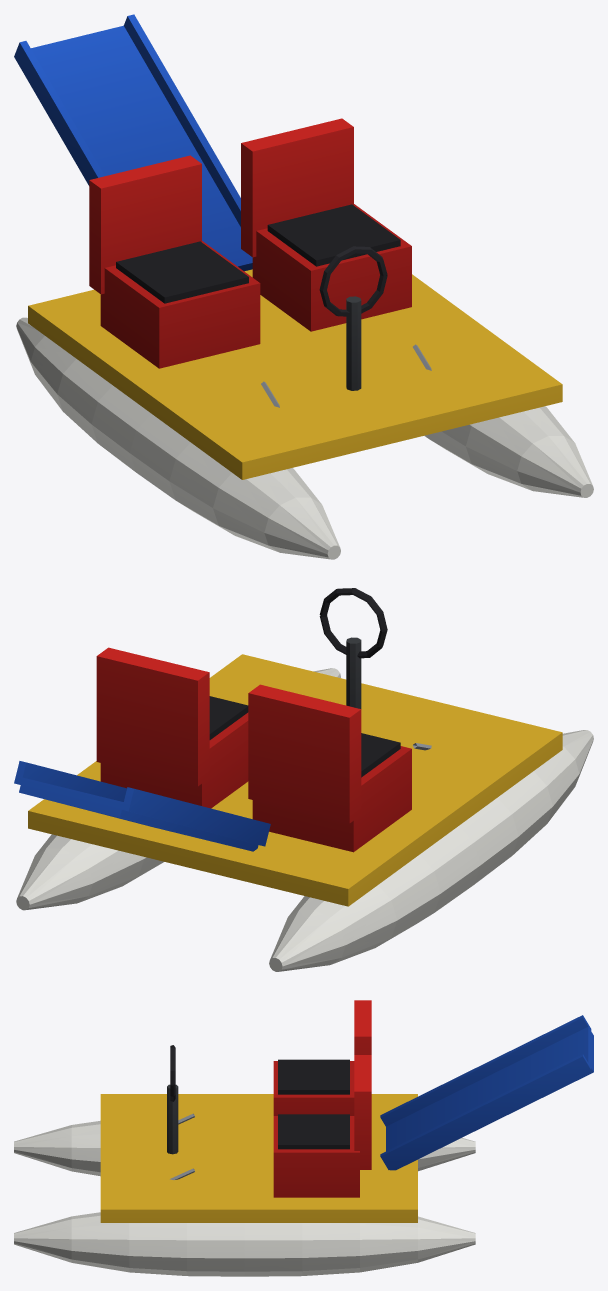
The model's file is Pedalo.fbx.
3 views of the same model, one above another, from view 1: azimuth 30°, elevation 25°; view 2: azimuth 150°, elevation 25°; view 3: azimuth 270°, elevation 25° (orthographic). The views are drawn at different scales.
Visible parts, largest first — view 1: Pedalo_LOD0; view 2: Pedalo_LOD0; view 3: Pedalo_LOD0.
Boxes of the visible parts, x1,y1,x2,y2 form: Pedalo_LOD0: (14,14,593,559); Pedalo_LOD0: (14,588,593,971); Pedalo_LOD0: (14,1000,593,1276).
Size of what is drawn, in the model's own units: 2.08 by 1.46 by 4.02.
1 material, 1 textured.
